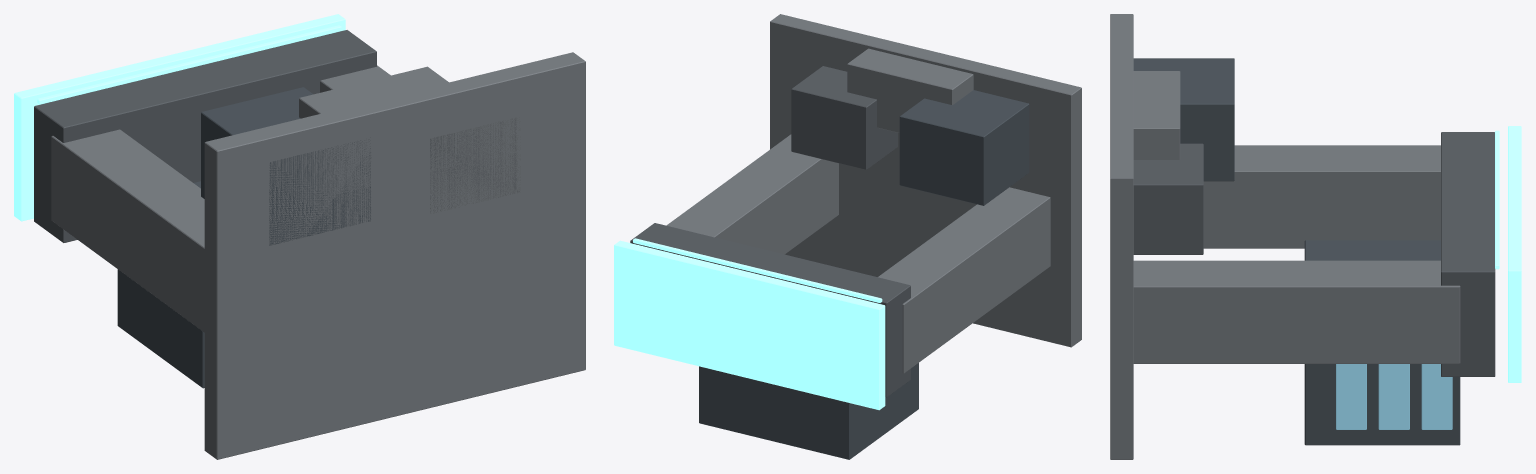
File: mass_gantry_block_yard_l.glb
3 views of the same model, side by side, from view 1: azimuth 30°, elevation 25°; view 2: azimuth 150°, elevation 25°; view 3: azimuth 270°, elevation 25° (orthographic). The views are drawn at different scales.
Parts seen in each view (by area): view 1: FlightKit_MassGantry_yard_L; view 2: FlightKit_MassGantry_yard_L; view 3: FlightKit_MassGantry_yard_L.
Boxes of the visible parts, x1,y1,x2,y2 form: FlightKit_MassGantry_yard_L: (14, 14, 585, 459); FlightKit_MassGantry_yard_L: (614, 14, 1081, 459); FlightKit_MassGantry_yard_L: (1110, 14, 1521, 459).
Bounding box in the file's own units: 10 × 8.75 × 10.57.
